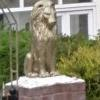Statue: (20, 2, 66, 81)
